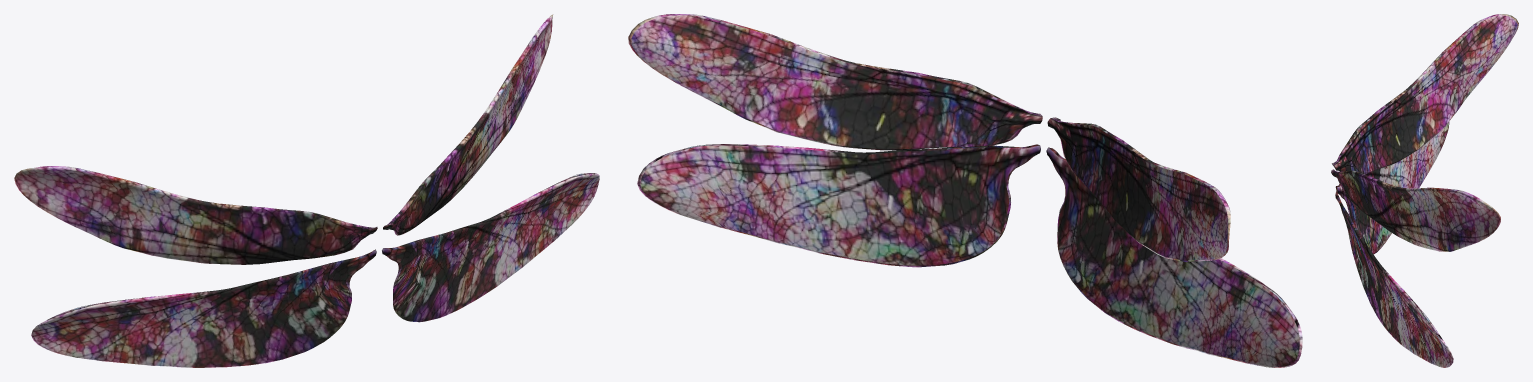
The model's file is dragonflywings-lite.glb.
The picture shows the model from 3 angles, left to right: view 1: azimuth 30°, elevation 25°; view 2: azimuth 150°, elevation 25°; view 3: azimuth 270°, elevation 25°; orthographic projection. The views are drawn at different scales.
Visible parts, largest first — view 1: dragonflywings; view 2: dragonflywings; view 3: dragonflywings.
Part boxes in pixels (left/top/right/bottom): dragonflywings: left=14, top=14, right=599, bottom=367; dragonflywings: left=628, top=14, right=1302, bottom=367; dragonflywings: left=1331, top=14, right=1518, bottom=367.
Size of the model in its own units: 1.82 by 0.6775 by 0.5872.
Materials: 1 (1 with a texture image).
